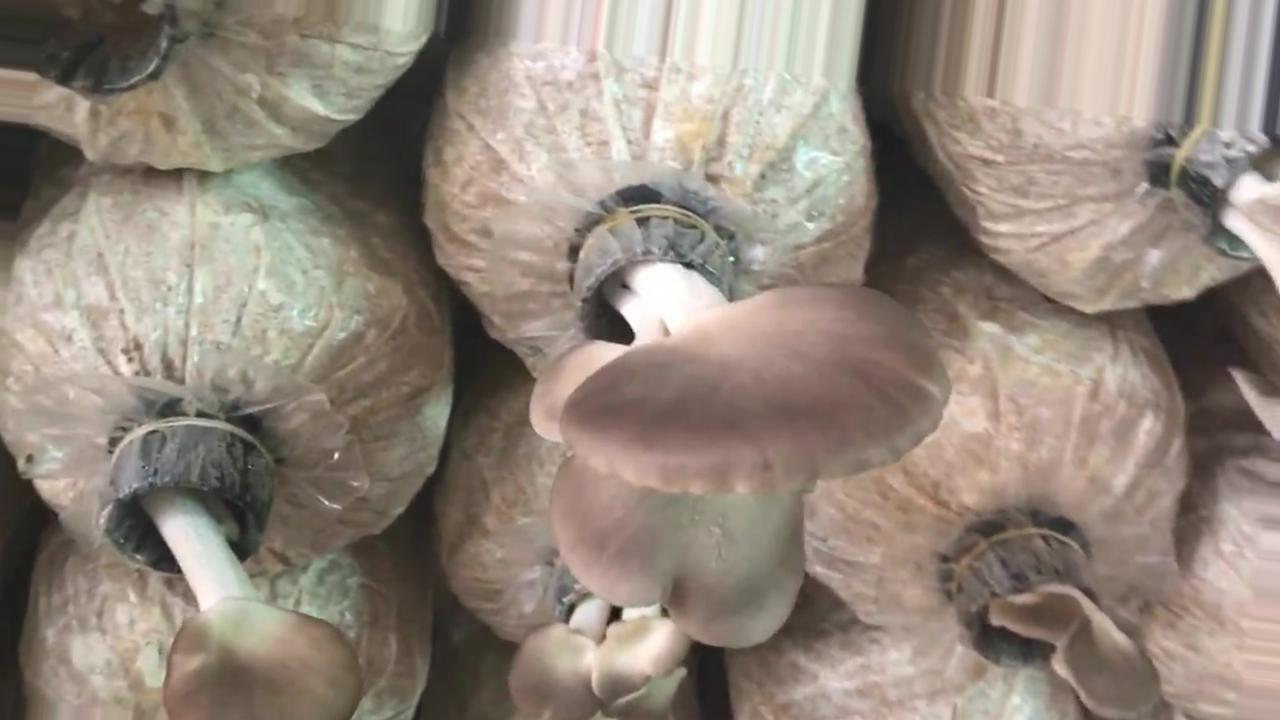nam: (531, 212, 950, 645), (94, 422, 358, 720), (950, 537, 1162, 720), (510, 566, 690, 720)
